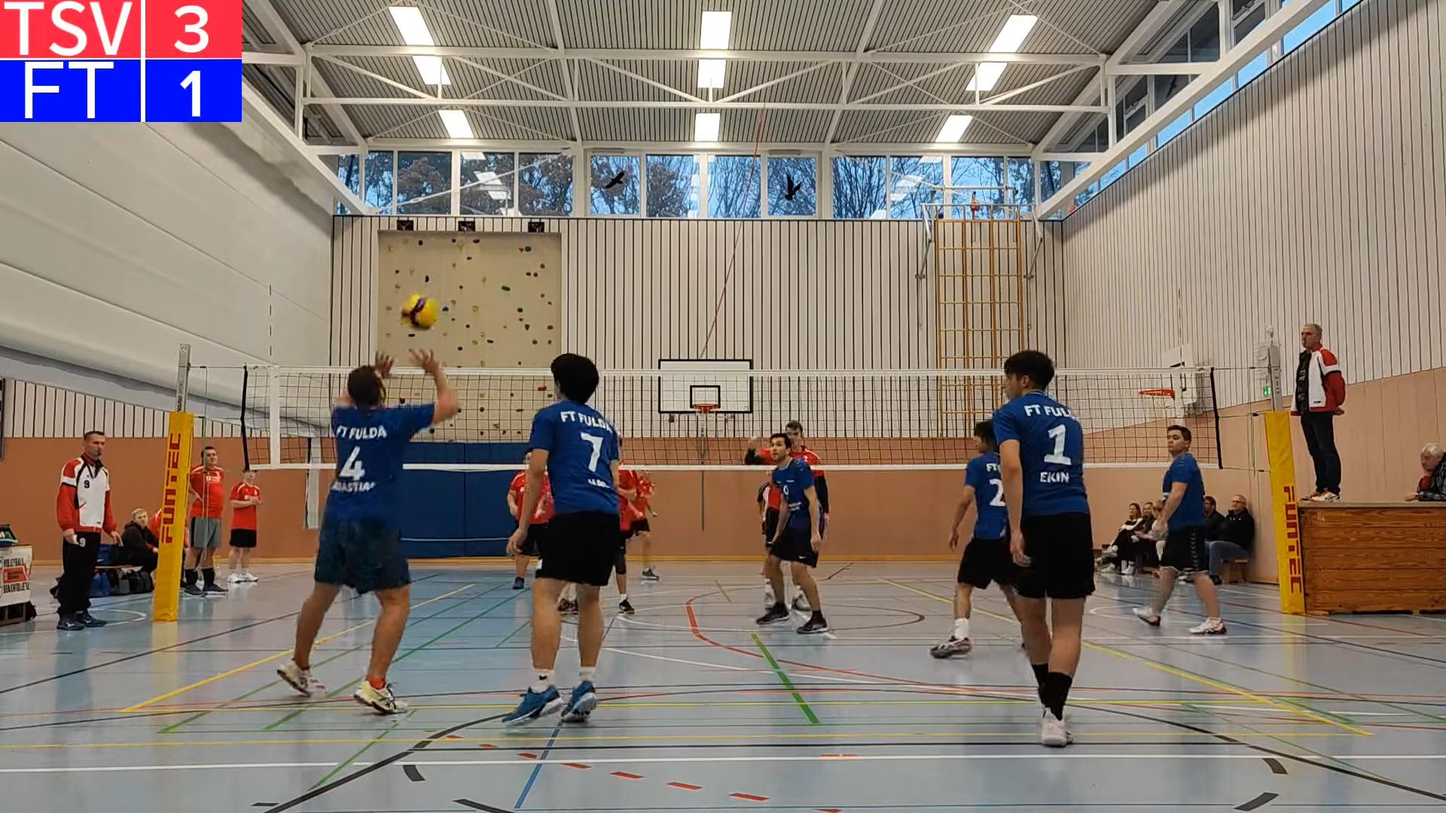ricezione: (276, 346, 481, 714)
